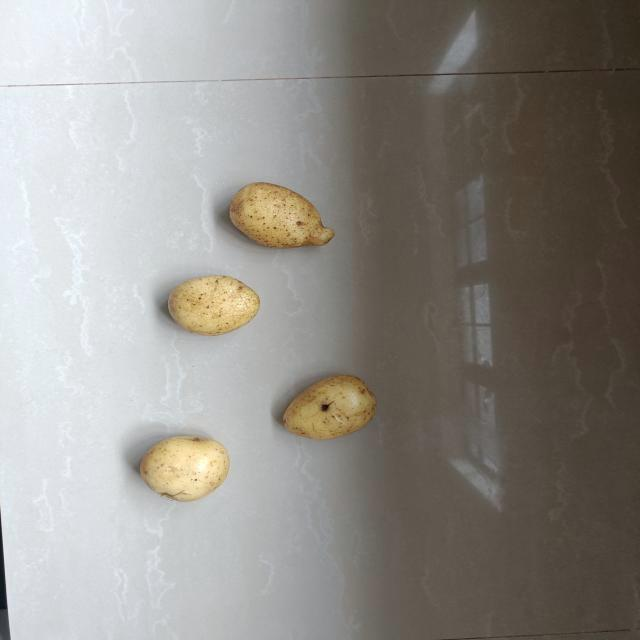potato: (228, 180, 340, 250), (278, 371, 379, 444), (166, 272, 260, 337), (141, 435, 230, 503)
